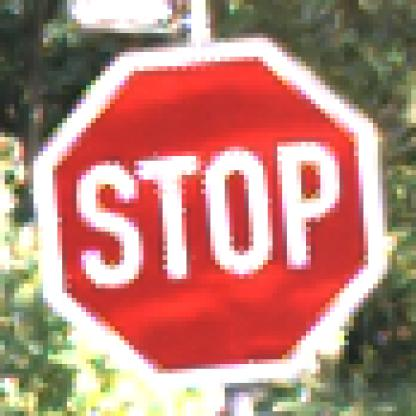stop: (23, 36, 392, 382)
